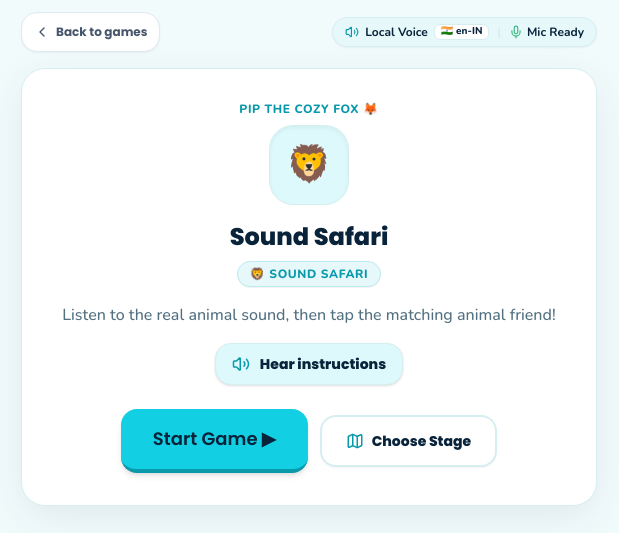
Sound Safari 25-Level Real Animal Sound & Gameplay Suite › 8. Clicking an incorrect distractor awards 0 score points and provides friendly retry feedback
Click the button "Start Game ▶" at (214, 441), box [121,409,308,473]
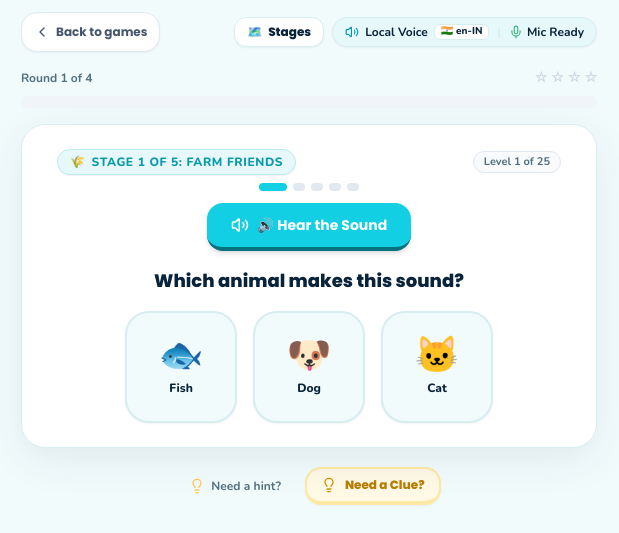
Expected: the button "🐶 Dog" is shown
Click the button "🐶 Dog" at (309, 367), box [253,311,365,423]
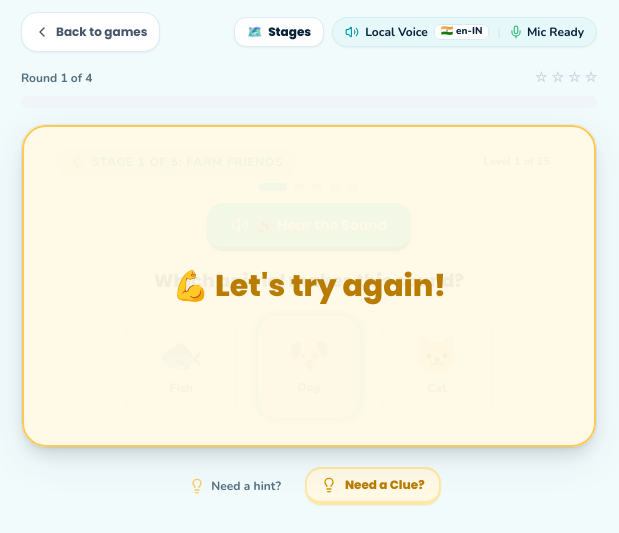
Expected: the text "💪 Let's try again!" is shown, [22,125,596,447]
